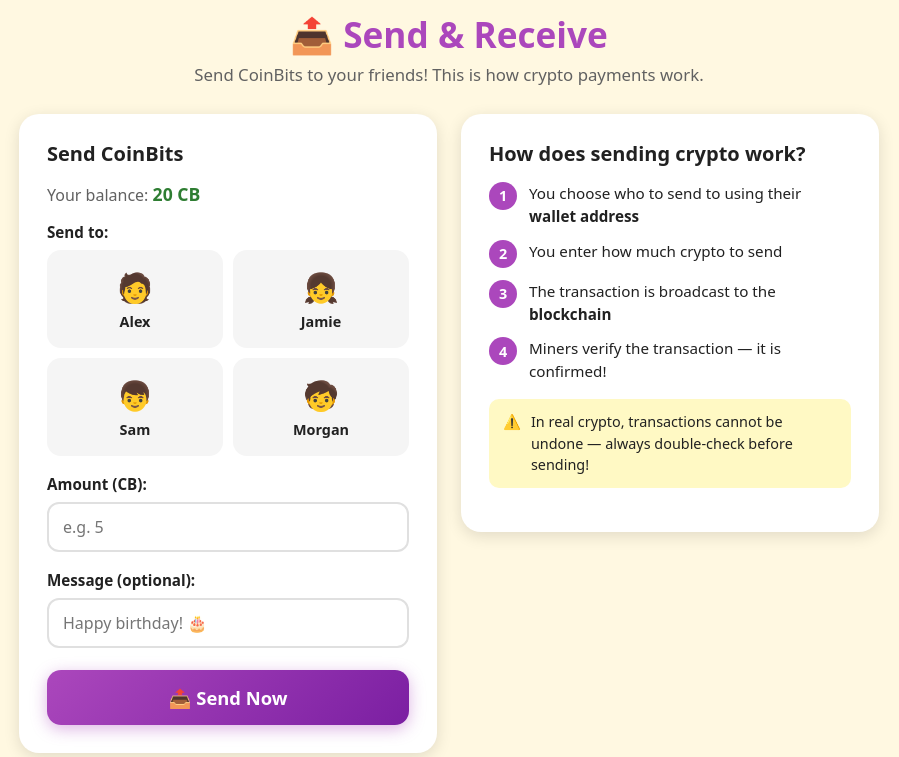
Transfer page › shows error if amount is 0
Click the text "Alex". click: x=135, y=322
box: 120,312 -> 150,331
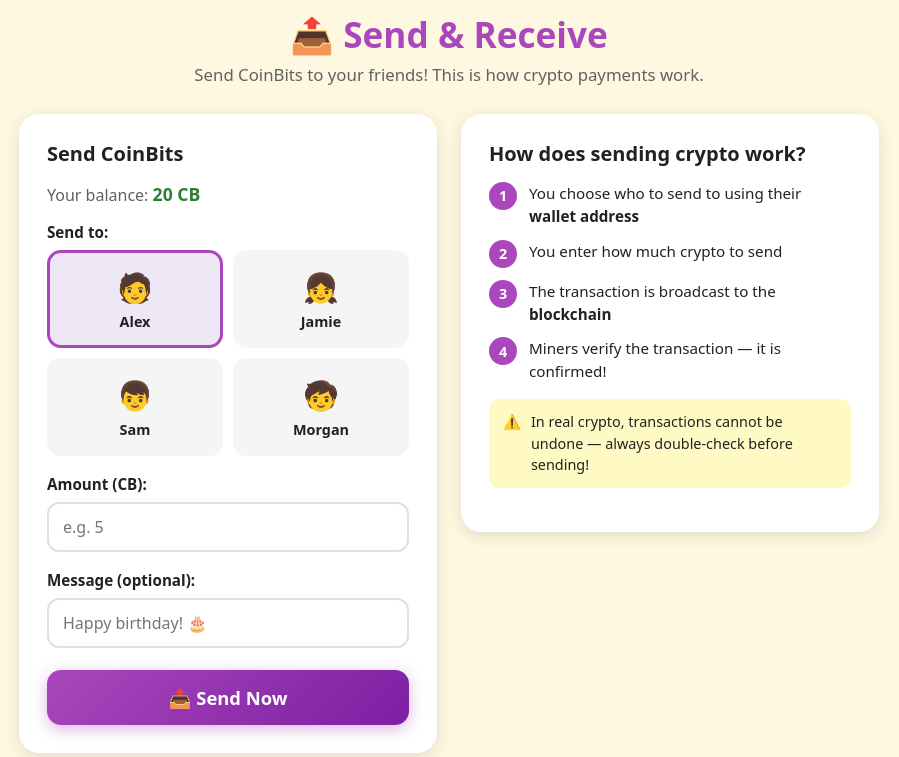
Type "0" into the number field labelled "Amount (CB):". click: x=228, y=527
box: 47,502 -> 409,552
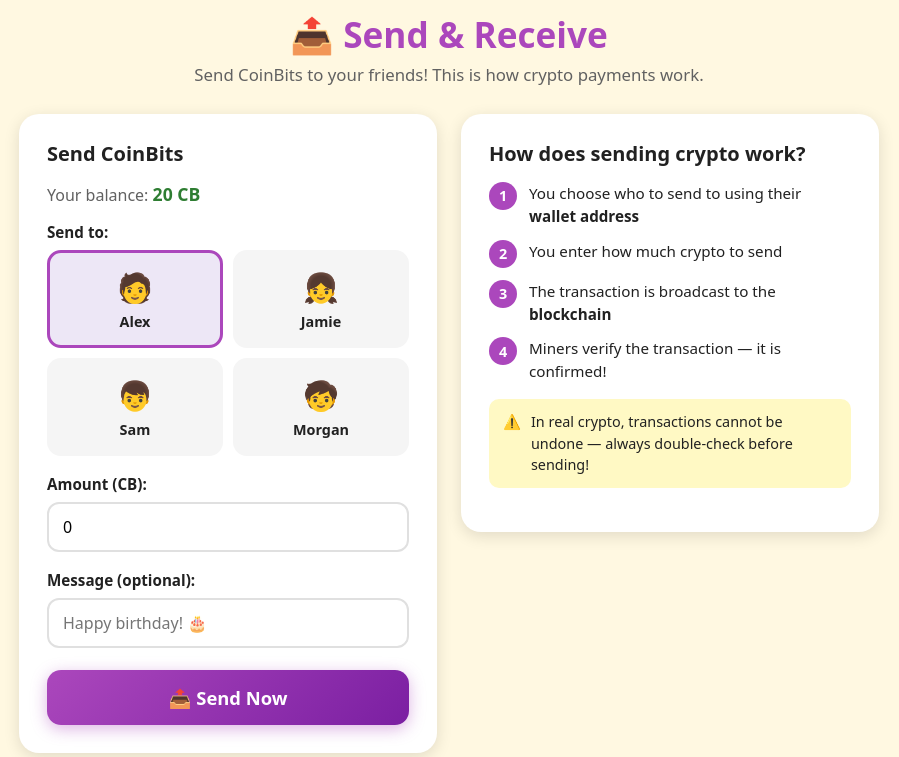
Click the button "📤 Send Now". click: x=228, y=698
box: 47,670 -> 409,725
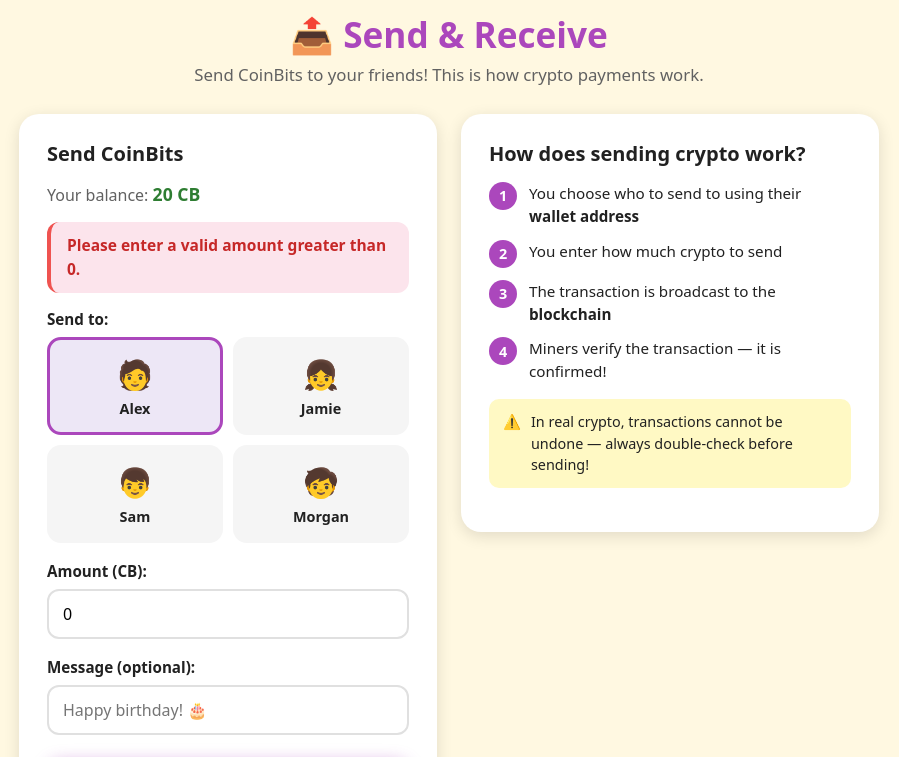
expect the text "Please enter a valid amount greater than 0." is shown: met, box 47,222 -> 409,293
